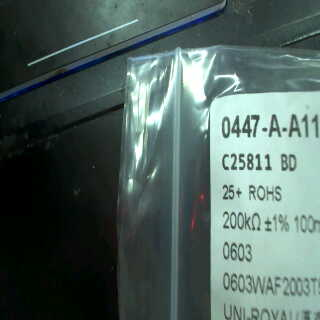200kR: (219, 209, 263, 234)
